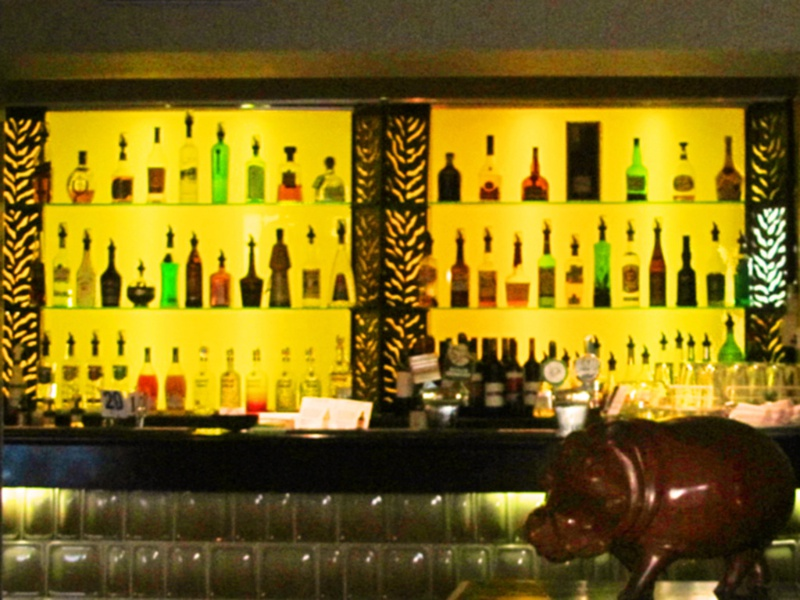wine: (430, 106, 750, 402), (40, 108, 356, 403)
